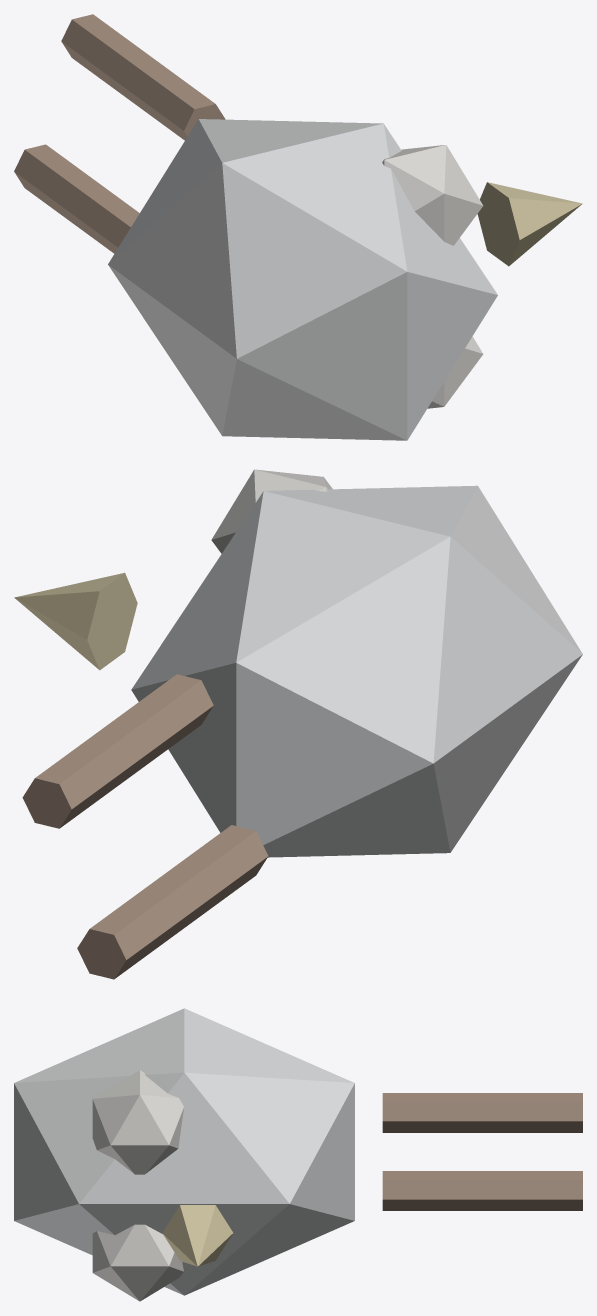
Rendered from snowy_owl.glb.
3 renders of one model, top to bottom at view 1: azimuth 30°, elevation 25°; view 2: azimuth 150°, elevation 25°; view 3: azimuth 270°, elevation 25°, orthographic. The views are drawn at different scales.
Parts seen in each view (by area): view 1: world; view 2: world; view 3: world.
Boxes of the visible parts, x1=… form: world: x1=14, y1=14, x2=582, y2=440; world: x1=14, y1=469, x2=582, y2=979; world: x1=14, y1=1008, x2=582, y2=1301.
Size of the model in its own units: 0.8865 by 0.5529 by 1.28.
